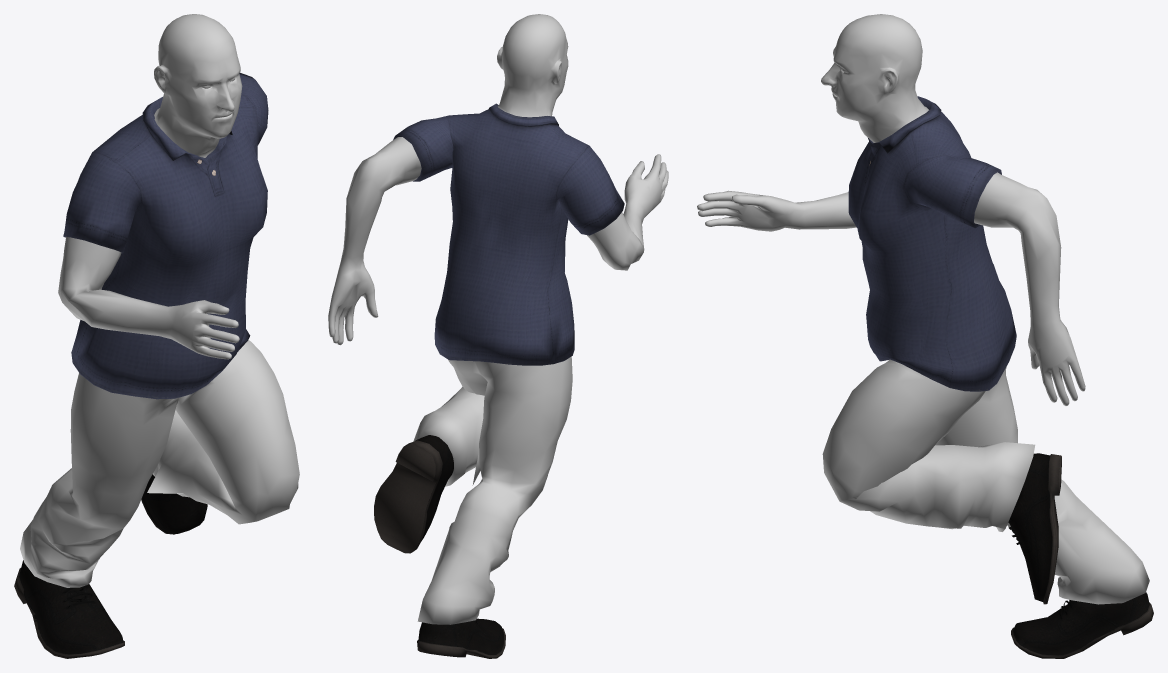
Rendered from human_02Run.fbx.
The picture shows the model from 3 angles, left to right: view 1: azimuth 30°, elevation 25°; view 2: azimuth 150°, elevation 25°; view 3: azimuth 270°, elevation 25°; orthographic projection. The views are drawn at different scales.
Parts seen in each view (by area): view 1: human 02Run; view 2: human 02Run; view 3: human 02Run.
Boxes of the visible parts, bbox=[...] form: human 02Run: bbox=[14, 14, 299, 658]; human 02Run: bbox=[328, 14, 668, 658]; human 02Run: bbox=[697, 14, 1153, 658].
Size of the model in its own units: 70.9 by 170 by 110.
